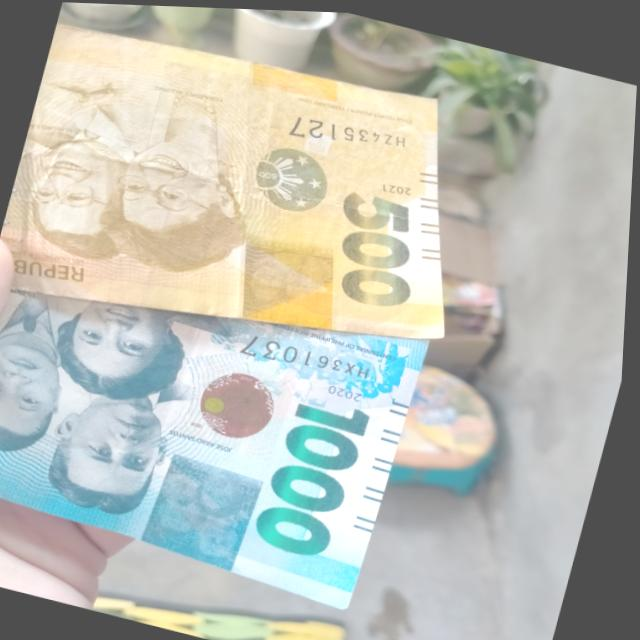concealed_value: (144, 446, 272, 570), (223, 221, 355, 336)
optically_variable_device: (180, 338, 301, 460), (229, 117, 357, 230)
serial_number: (276, 96, 420, 164), (232, 324, 374, 386)
value: (244, 371, 398, 579), (312, 174, 443, 313)
